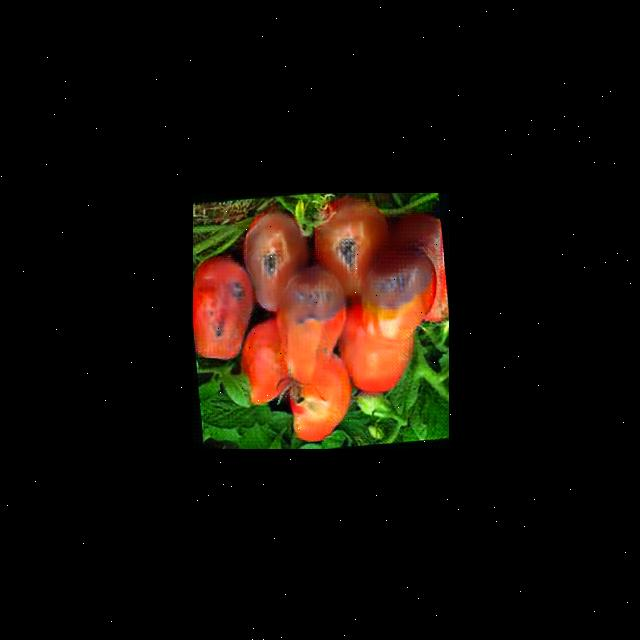tomato: (275, 268, 342, 391), (357, 248, 435, 344), (320, 197, 389, 295), (243, 214, 306, 312), (192, 260, 252, 360)
